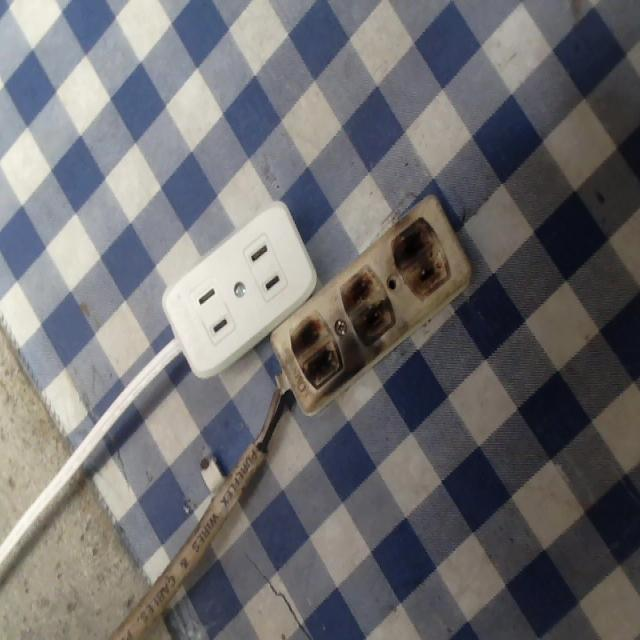-: (392, 216, 456, 297), (342, 263, 399, 349), (286, 309, 343, 384)
